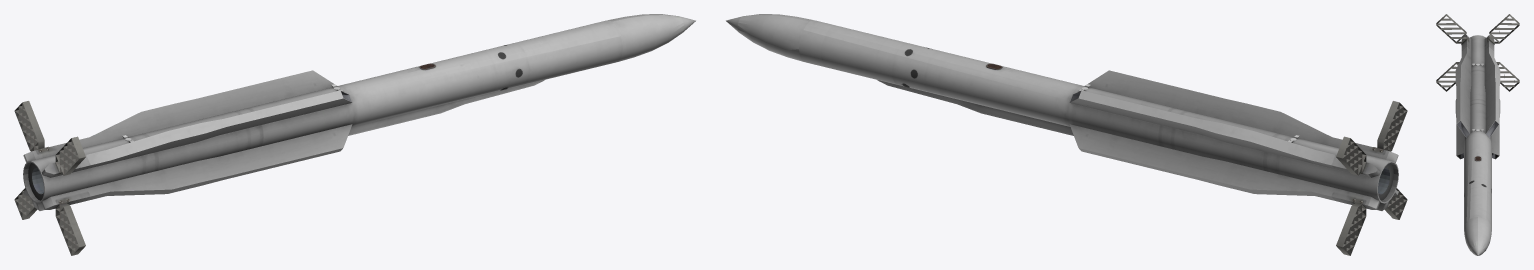
Rendered from aam_2.glb.
3 views of the same model, side by side, from view 1: azimuth 30°, elevation 25°; view 2: azimuth 150°, elevation 25°; view 3: azimuth 270°, elevation 25° (orthographic). The views are drawn at different scales.
Visible parts, largest first — view 1: weapon; view 2: weapon; view 3: weapon.
Boxes of the visible parts, left/top/right/bottom form: weapon: left=14, top=14, right=695, bottom=255; weapon: left=726, top=14, right=1407, bottom=255; weapon: left=1436, top=14, right=1519, bottom=255.
Bounding box in the file's own units: 1 × 0.1697 × 0.1697.
Materials: 1 (1 with a texture image).
